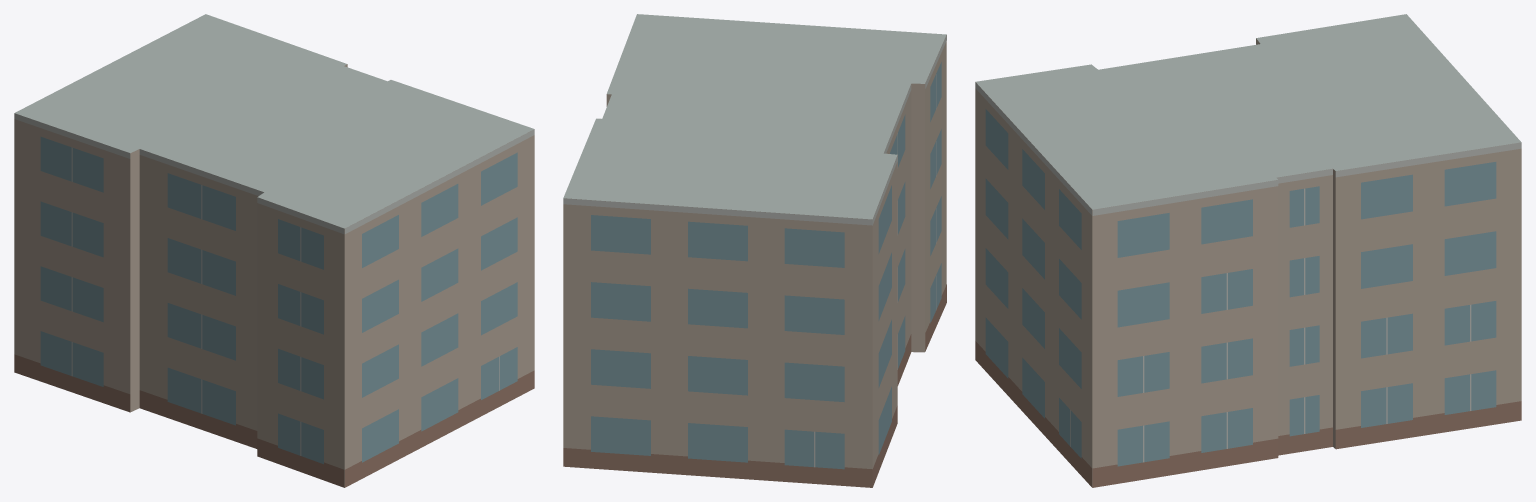
The model's file is survey-upis-32968093.glb.
3 views of the same model, side by side, from view 1: azimuth 30°, elevation 25°; view 2: azimuth 150°, elevation 25°; view 3: azimuth 270°, elevation 25° (orthographic). The views are drawn at different scales.
Visible parts, largest first — view 1: survey-upis-32968093.tmp; view 2: survey-upis-32968093.tmp; view 3: survey-upis-32968093.tmp.
Part boxes in pixels (left/top/right/bottom): survey-upis-32968093.tmp: left=14, top=14, right=534, bottom=487; survey-upis-32968093.tmp: left=563, top=14, right=946, bottom=487; survey-upis-32968093.tmp: left=975, top=14, right=1521, bottom=487.
Bounding box in the file's own units: 16.31 × 10.8 × 19.24.
